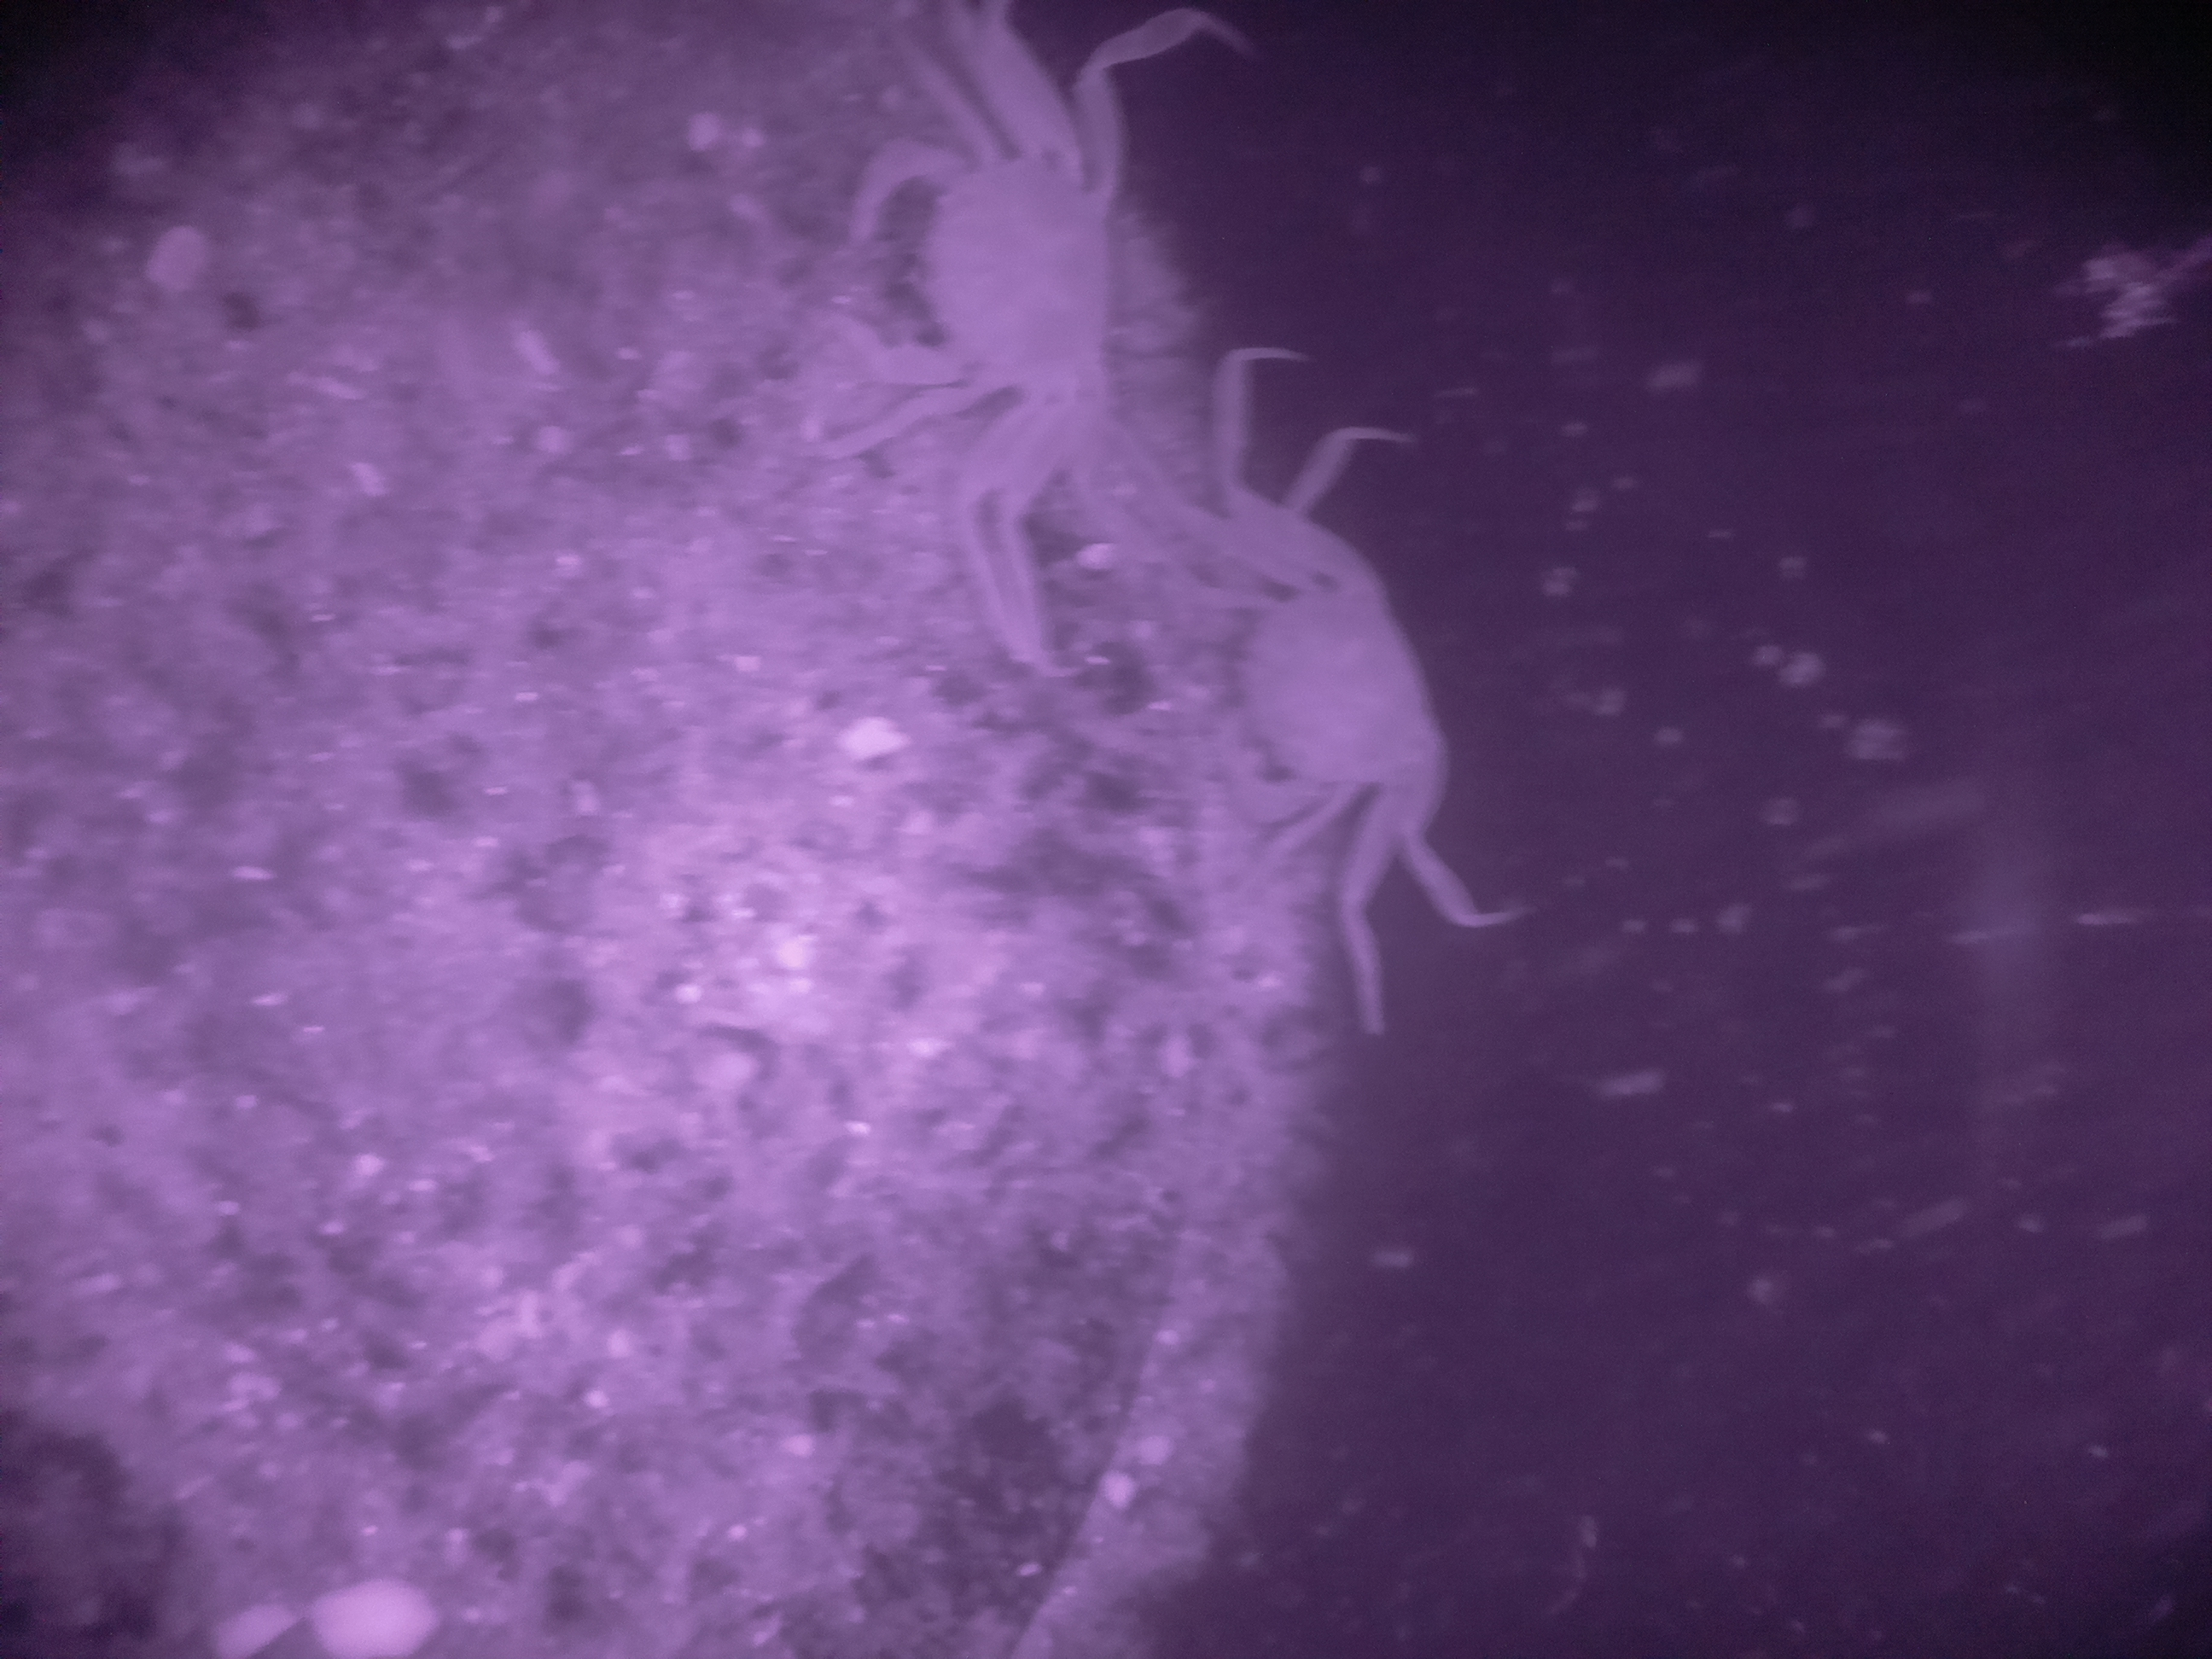Crab: (770, 35, 1191, 497), (1151, 460, 1480, 896)
